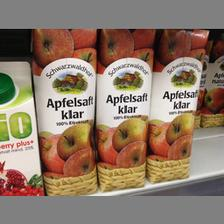Saft: (28, 28, 96, 194), (92, 28, 156, 188), (148, 28, 208, 184)
